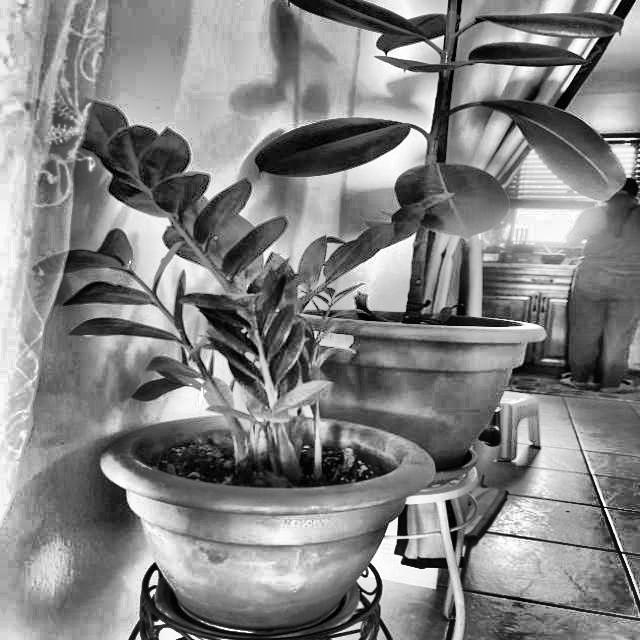plants: (86, 108, 419, 631), (251, 0, 588, 413)
